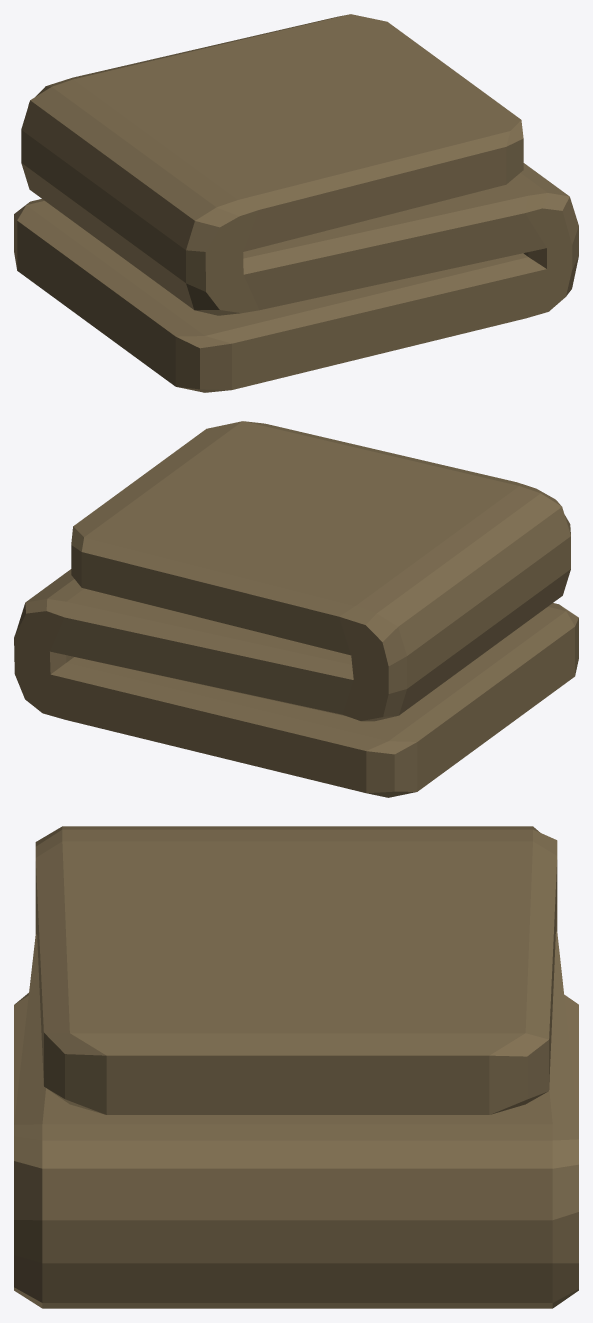
File: linen_resources.fbx
The picture shows the model from 3 angles, top to bottom: view 1: azimuth 30°, elevation 25°; view 2: azimuth 150°, elevation 25°; view 3: azimuth 270°, elevation 25°; orthographic projection. The views are drawn at different scales.
Parts seen in each view (by area): view 1: linen_resources; view 2: linen_resources; view 3: linen_resources.
Part boxes in pixels (left/top/right/bottom): linen_resources: left=14, top=14, right=578, bottom=392; linen_resources: left=14, top=421, right=578, bottom=797; linen_resources: left=14, top=826, right=578, bottom=1308.
Size of the model in its own units: 34.81 by 15.06 by 30.33.
